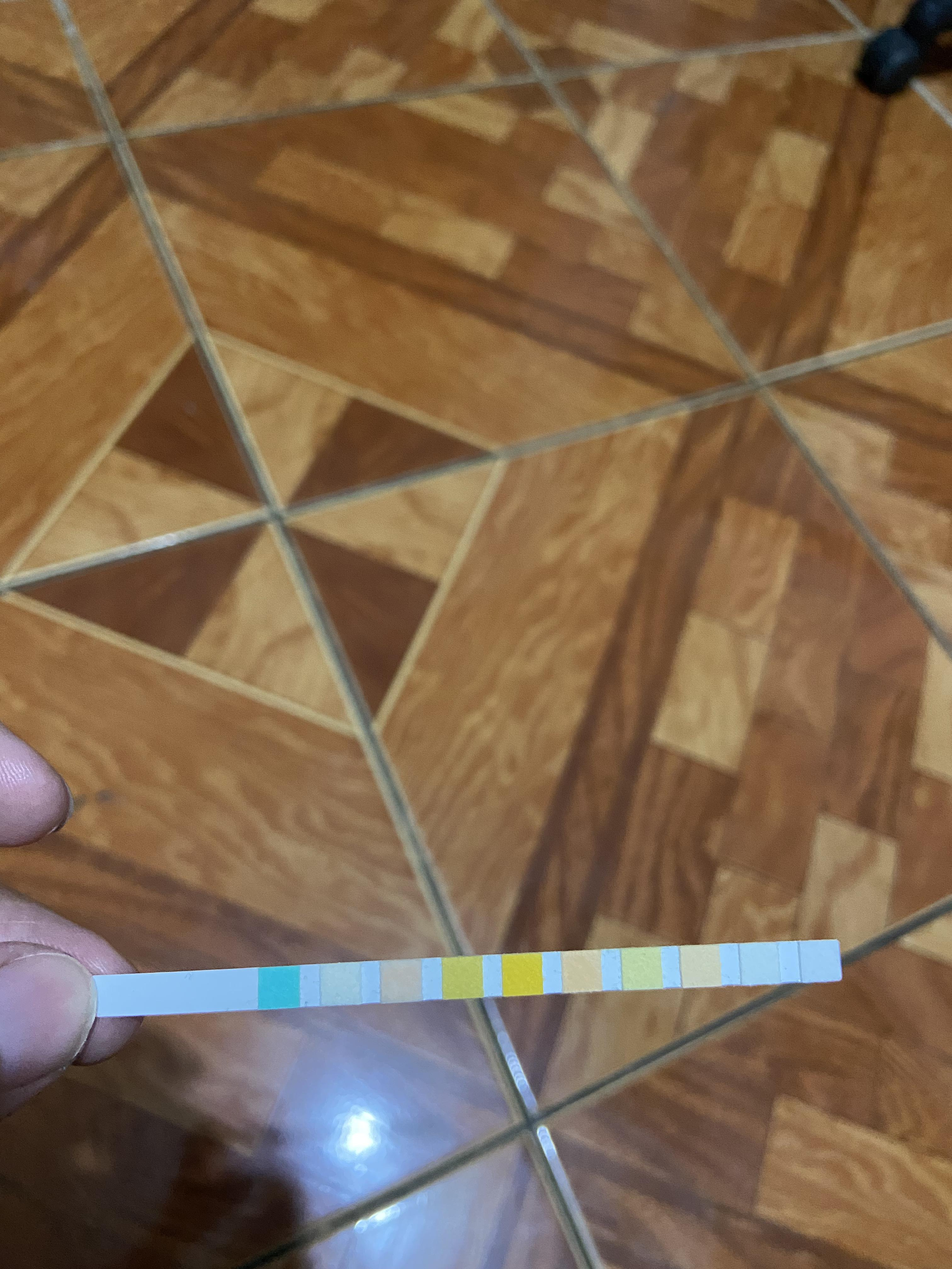Bilirubin: (321, 965, 361, 1003)
Blood: (503, 955, 542, 995)
Glucose: (260, 969, 300, 1007)
Ketone: (381, 961, 421, 1000)
Leukocytes: (802, 941, 839, 980)
Nitrite: (741, 944, 777, 983)
Protein: (623, 949, 661, 990)
SpGravity: (443, 957, 482, 996)
Urobilinogen: (682, 946, 719, 987)
pH: (563, 952, 600, 991)
strip: (103, 939, 844, 1018)
